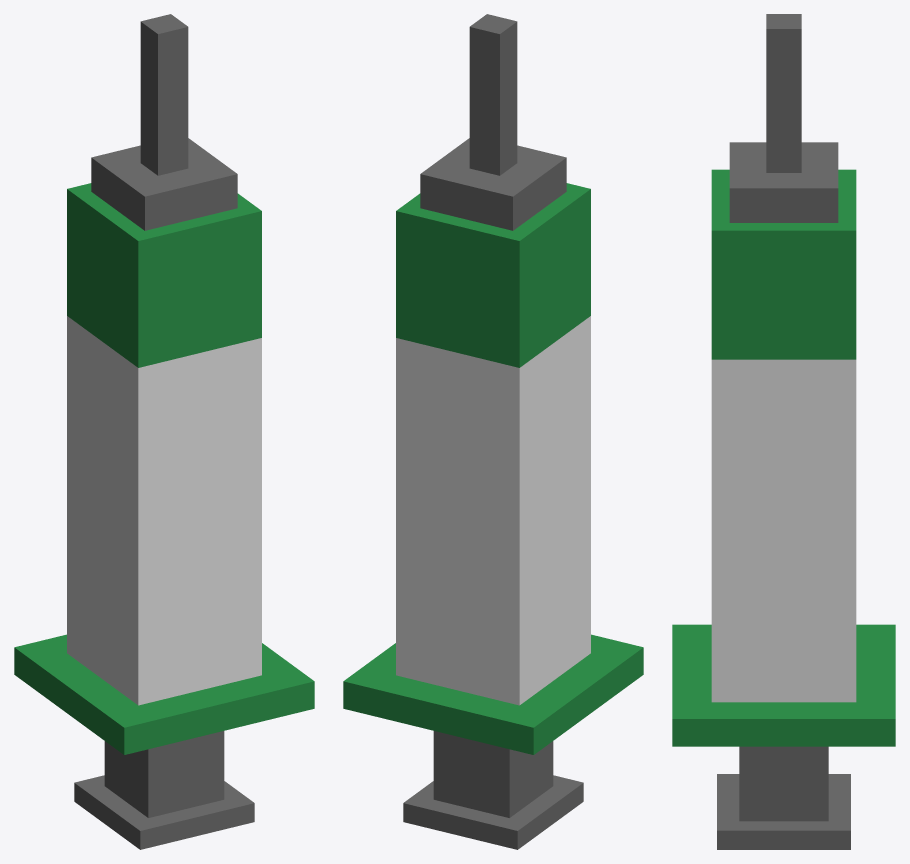
File: Syringe.fbx
3 views of the same model, side by side, from view 1: azimuth 30°, elevation 25°; view 2: azimuth 150°, elevation 25°; view 3: azimuth 270°, elevation 25° (orthographic).
Parts seen in each view (by area): view 1: Syringe; view 2: Syringe; view 3: Syringe.
Part boxes in pixels (box(x1,y1,x2,y2)): Syringe: box(14, 14, 314, 849); Syringe: box(343, 14, 643, 849); Syringe: box(672, 14, 895, 849).
Bounding box in the file's own units: 0.0788 × 0.3114 × 0.0788.
